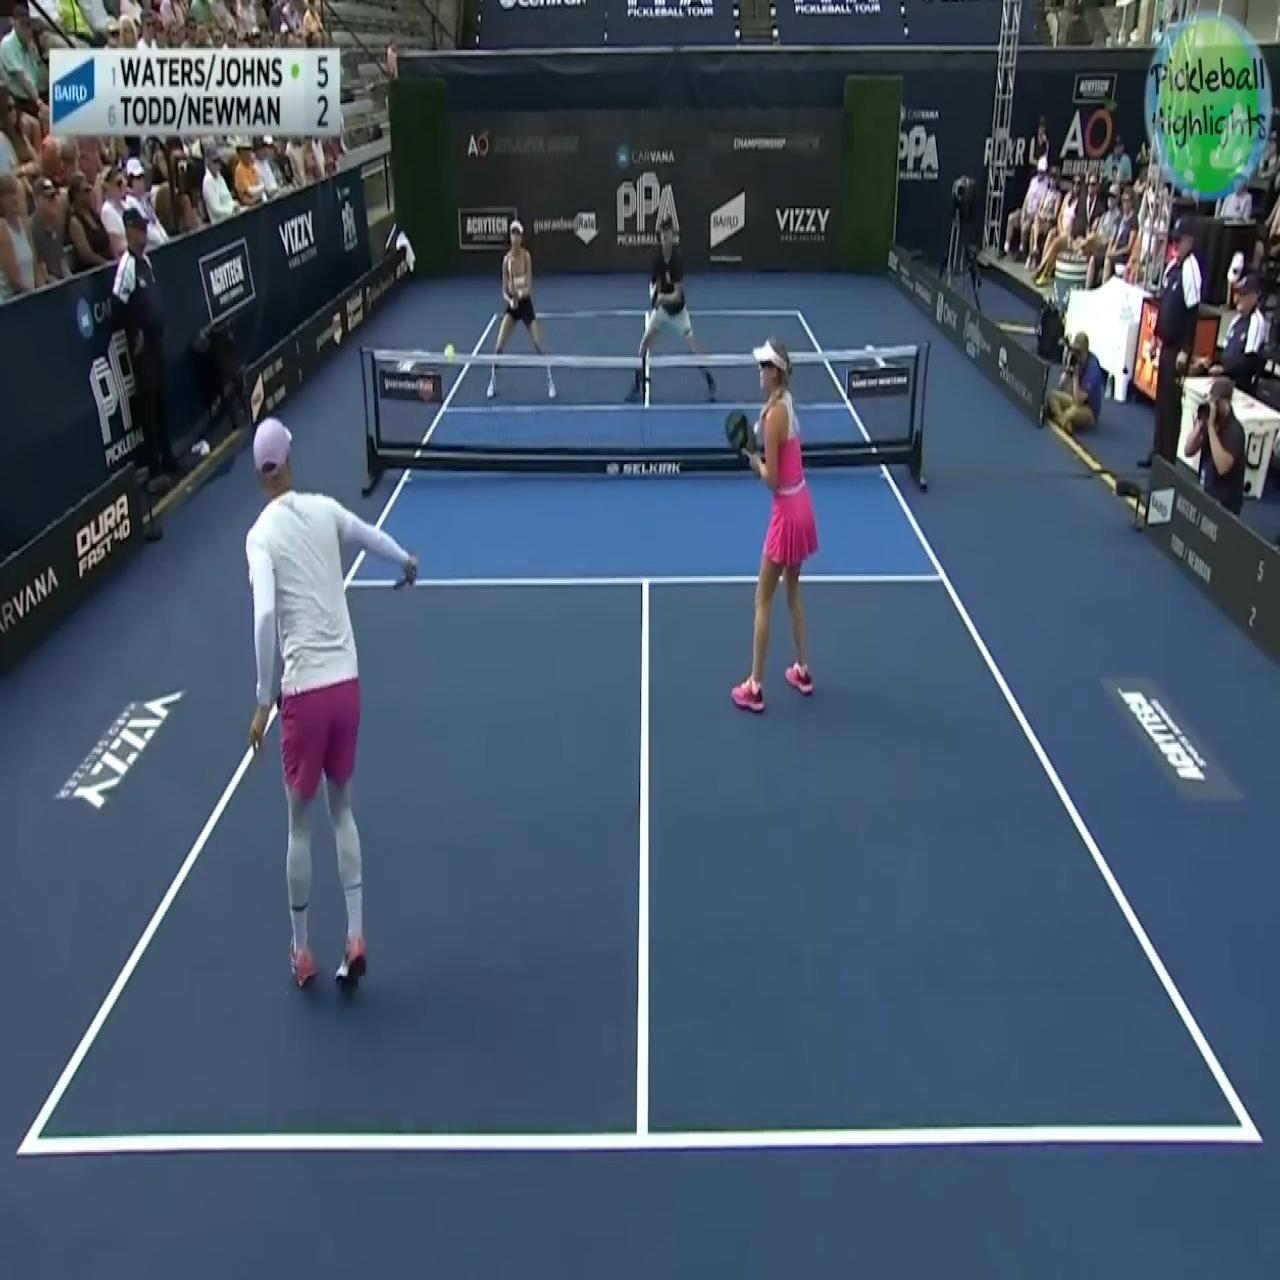Pickleball: (442, 338, 456, 362)
